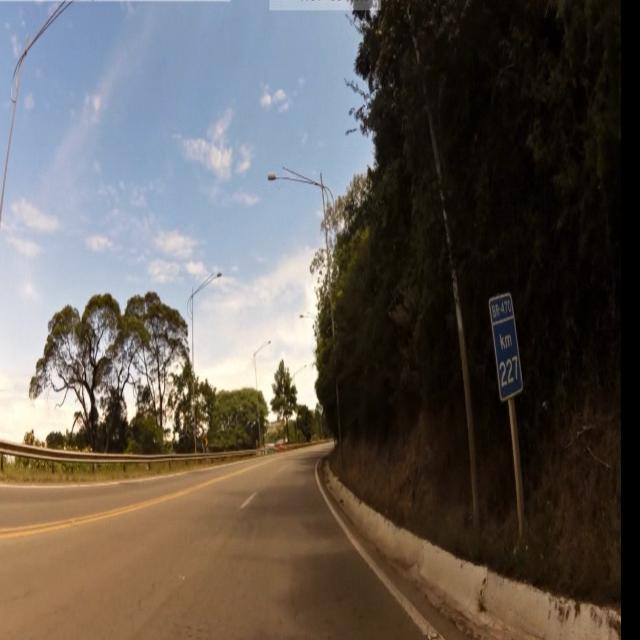RQ: (487, 296, 529, 399)
